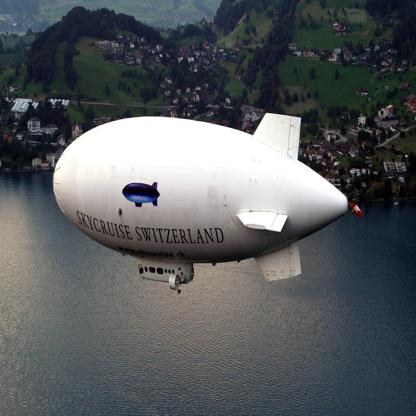Airship: (43, 105, 369, 305)
